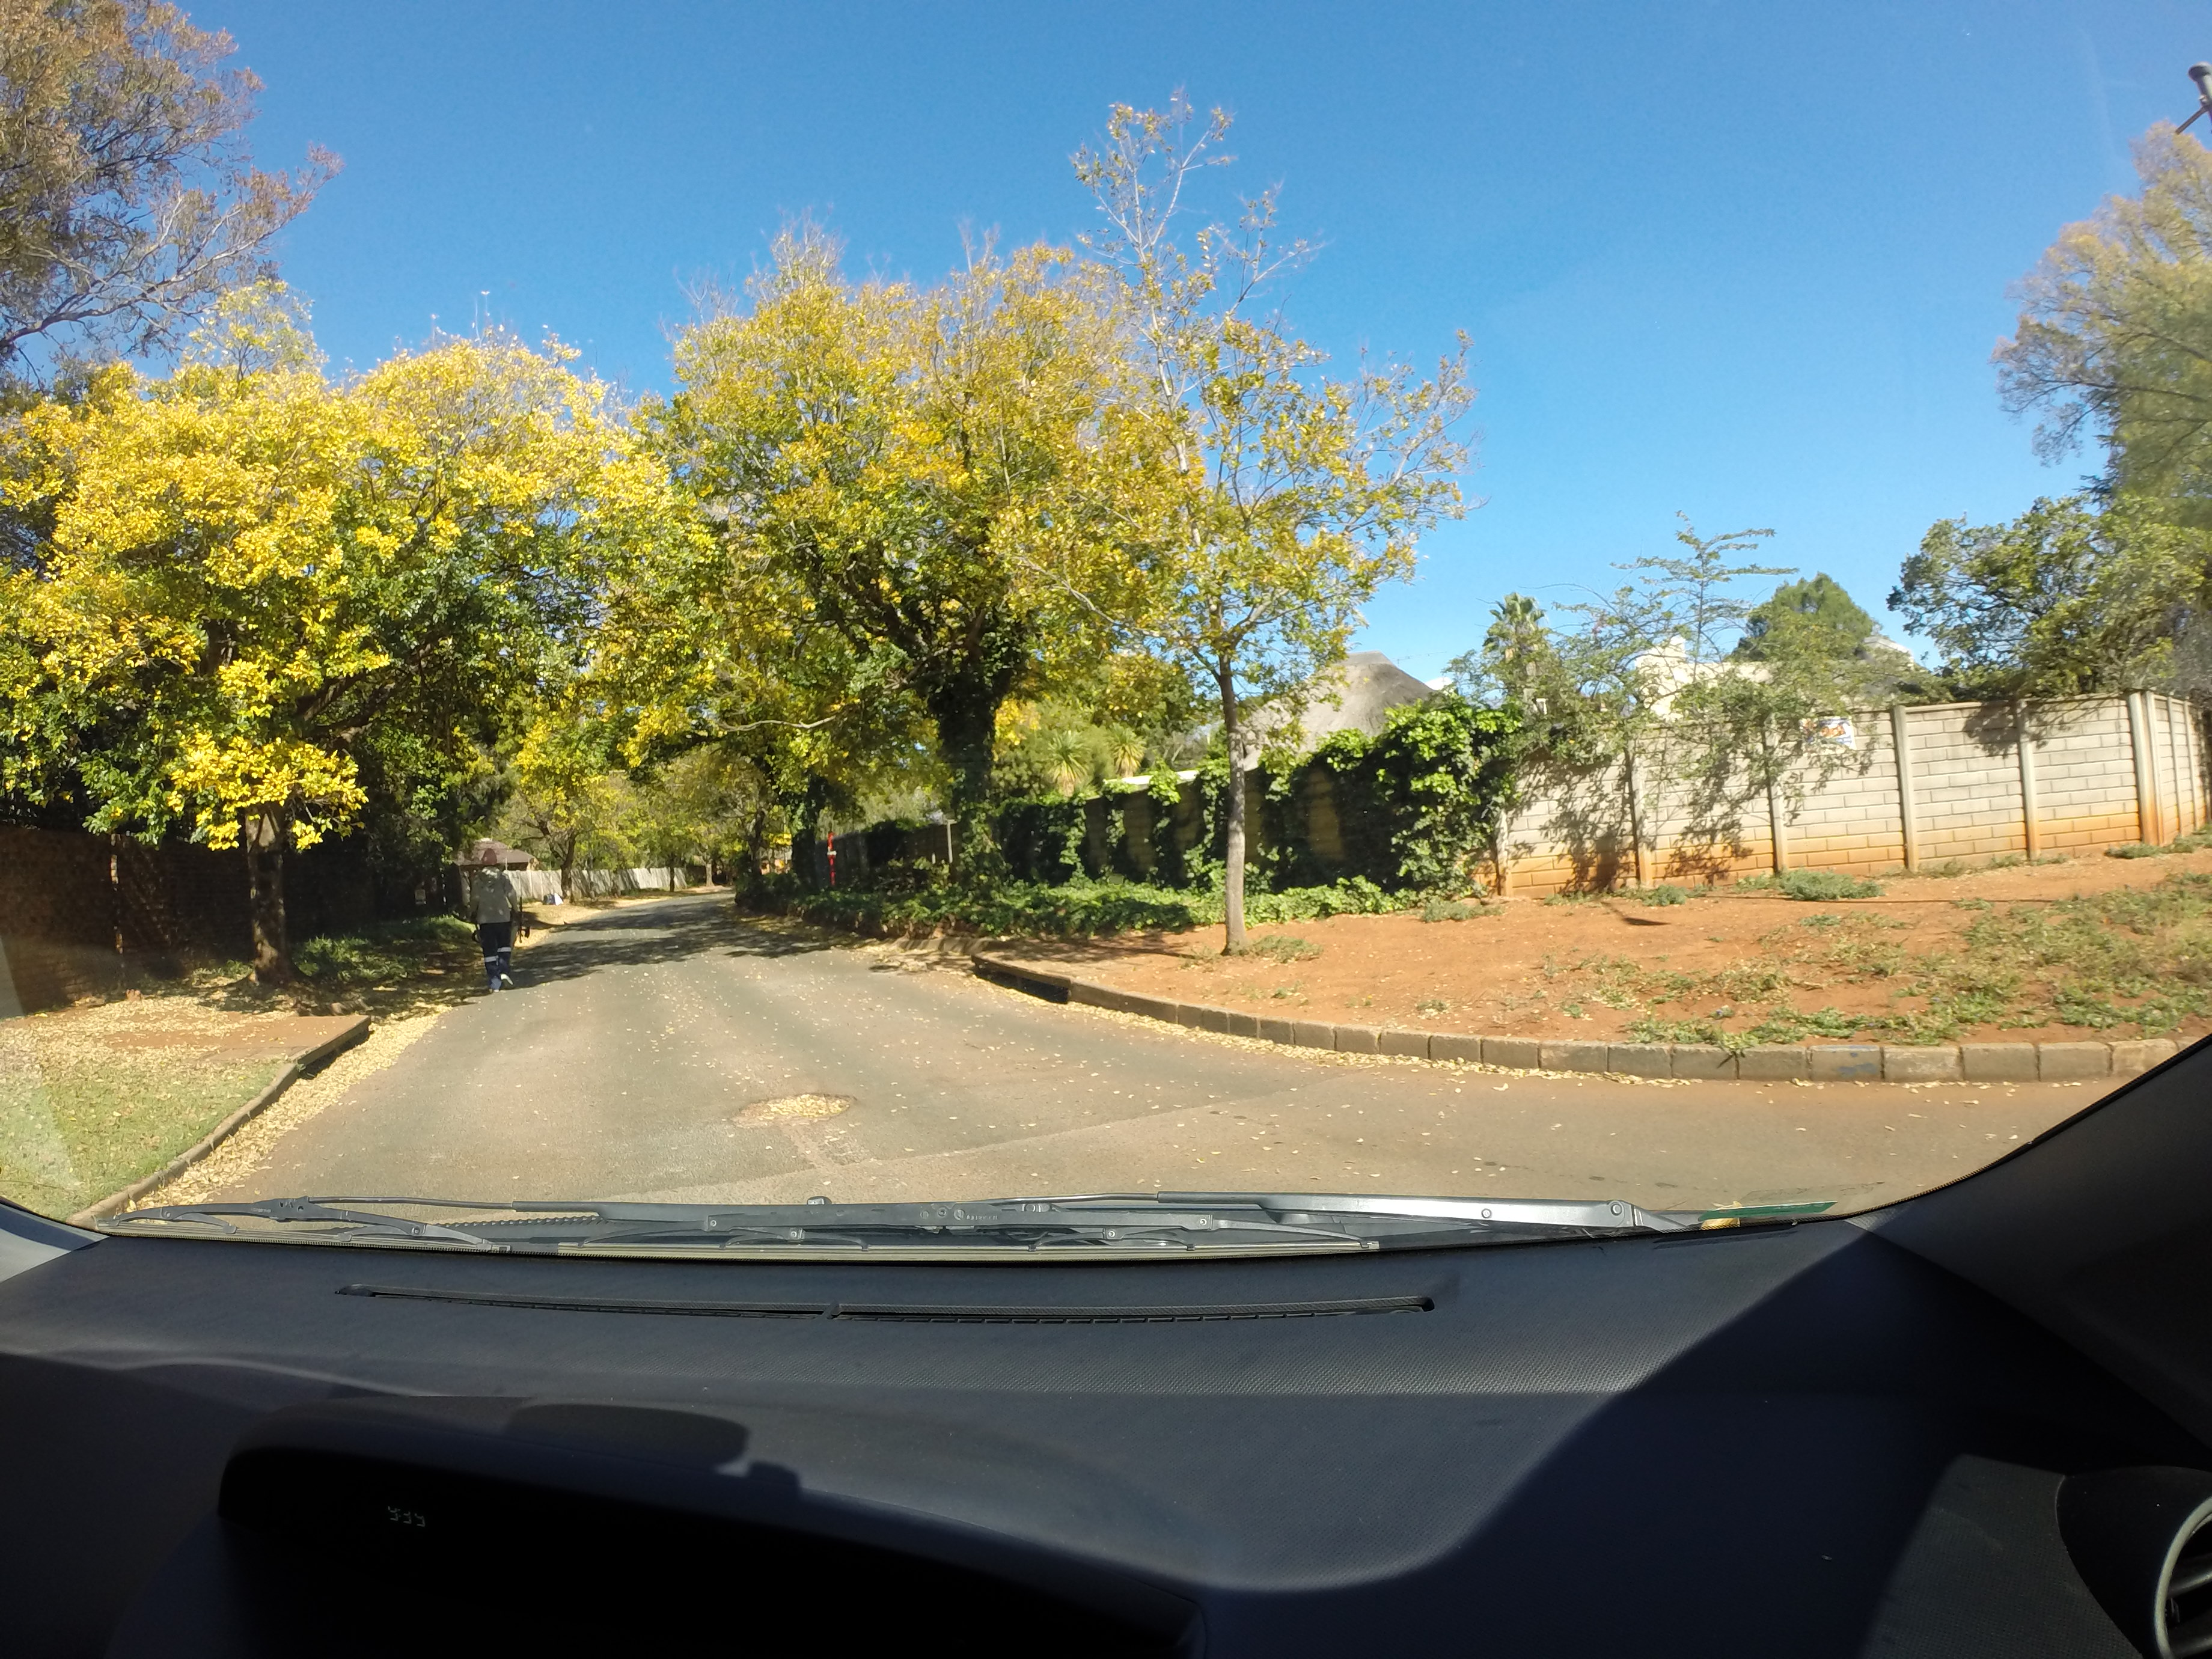pothole: (733, 1070, 888, 1140)
